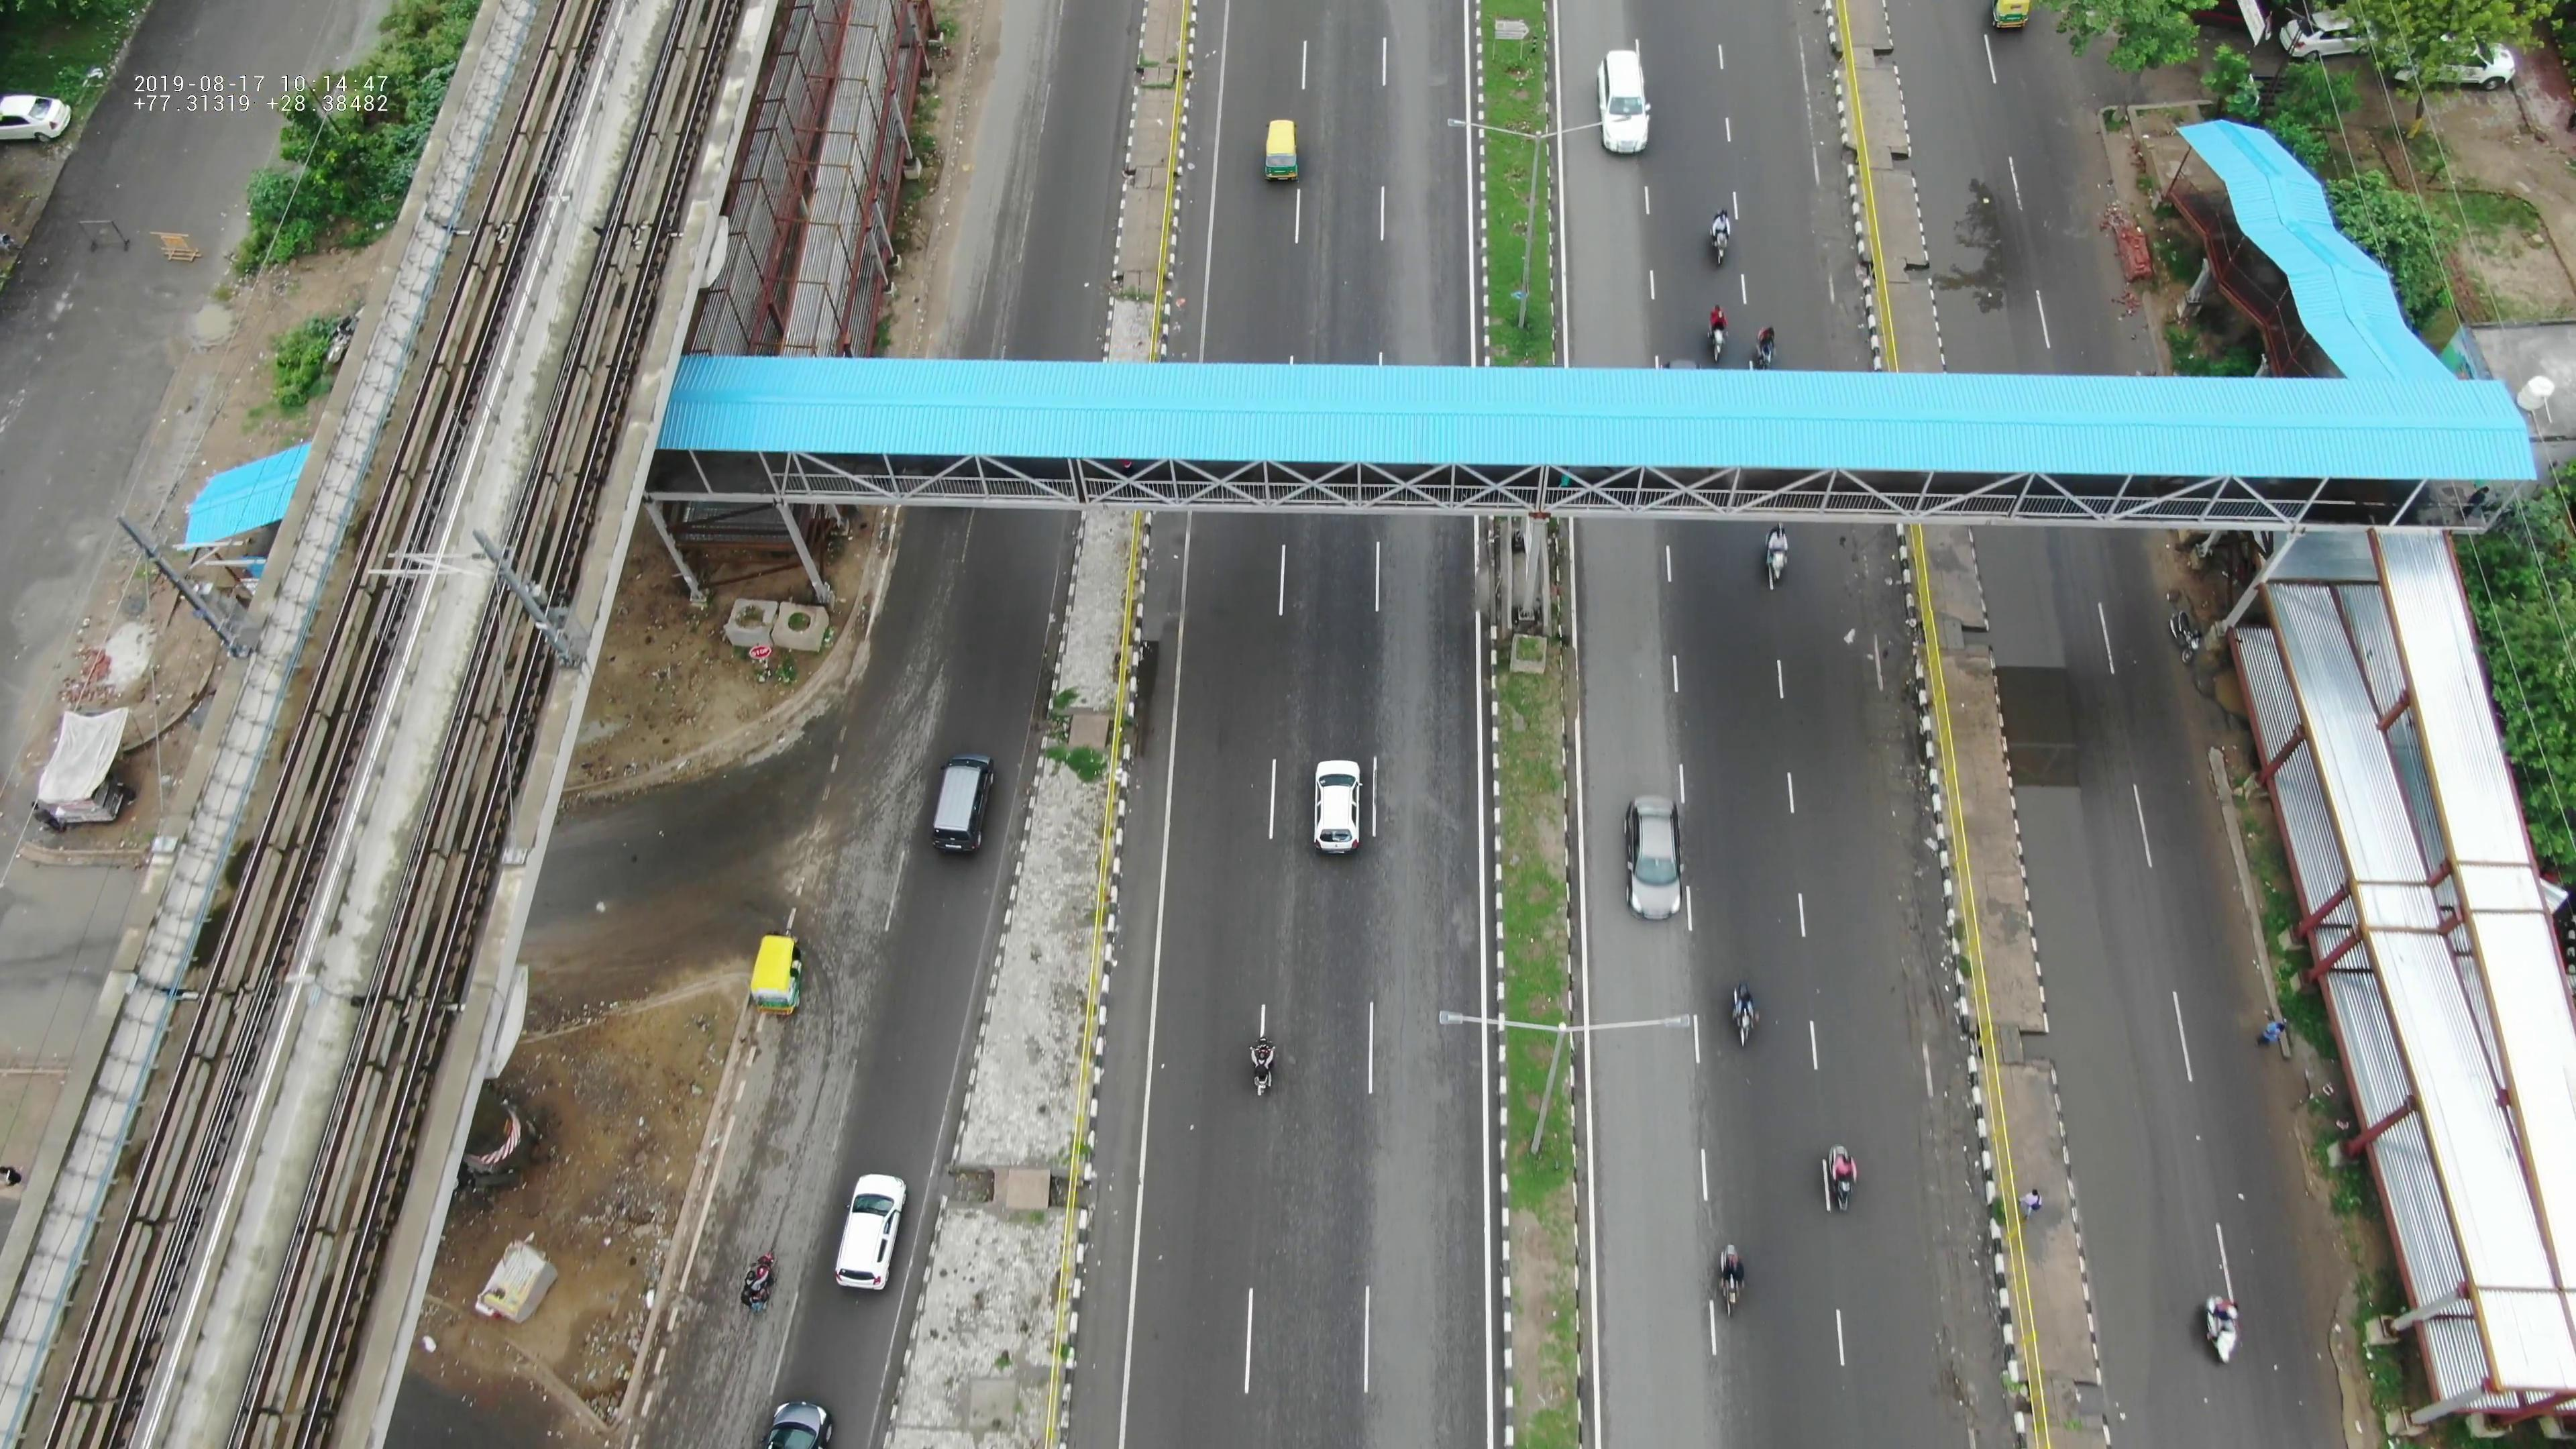Waterlogging: (2022, 858, 2181, 1361), (1888, 64, 2015, 334), (1967, 573, 2095, 833)
